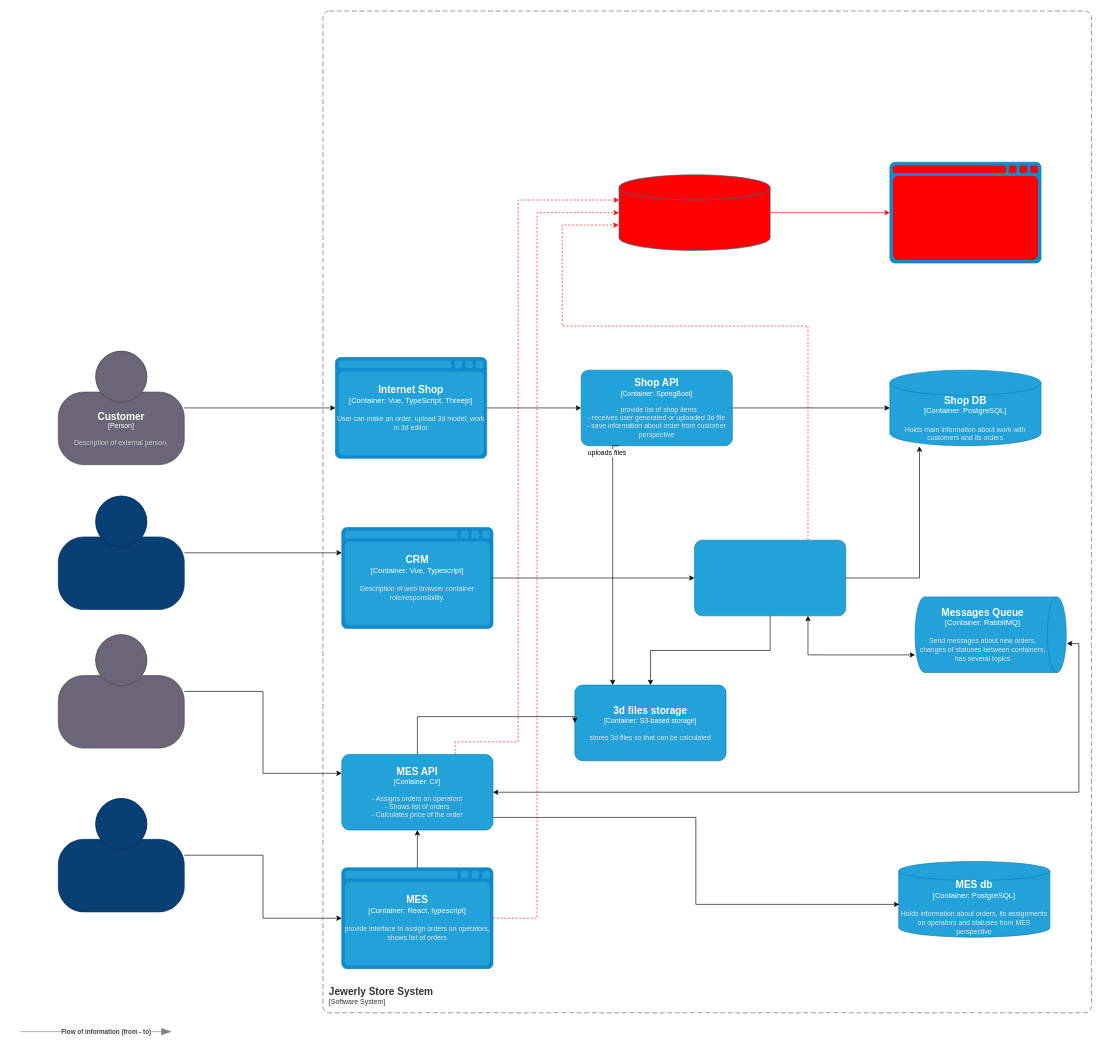
The diagram is 1103 pixels wide and 1053 high, and some of its shapes have lost their labels. Each missing label, with the centre of its shape:
"API user [Person] Description of external person." goes at (121,691).
"CRM API [Container: SpringBoot] Description of container role/responsibility." goes at (770,578).
"Operator [Person] Takes order in work, manufactures jewerly" goes at (121,855).
"Seller [Person] Operates with order, confirms manufacturing for the user" goes at (121,552).
"Tracing Collector [Container: Jaeger] Process, filter and aggregate telemetry" goes at (694,212).
"Tracing Visualiser [Container: Jaeger UI] UI for visualize the entire call flow" goes at (965,212).
